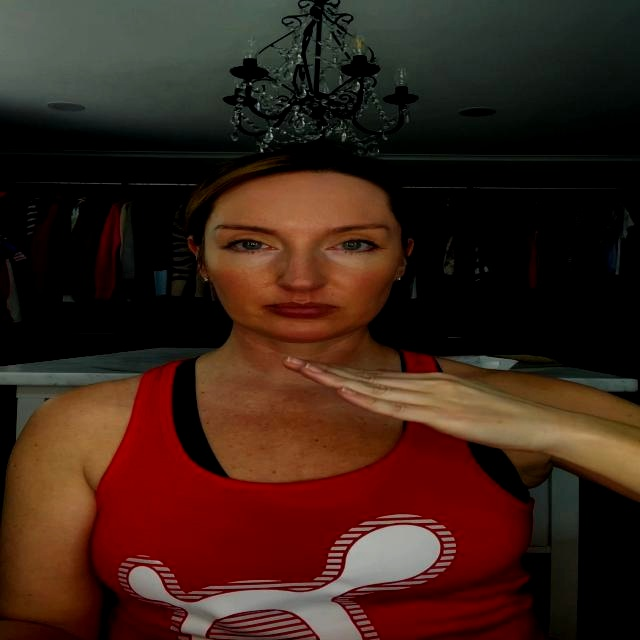Paper: (277, 350, 565, 452)
